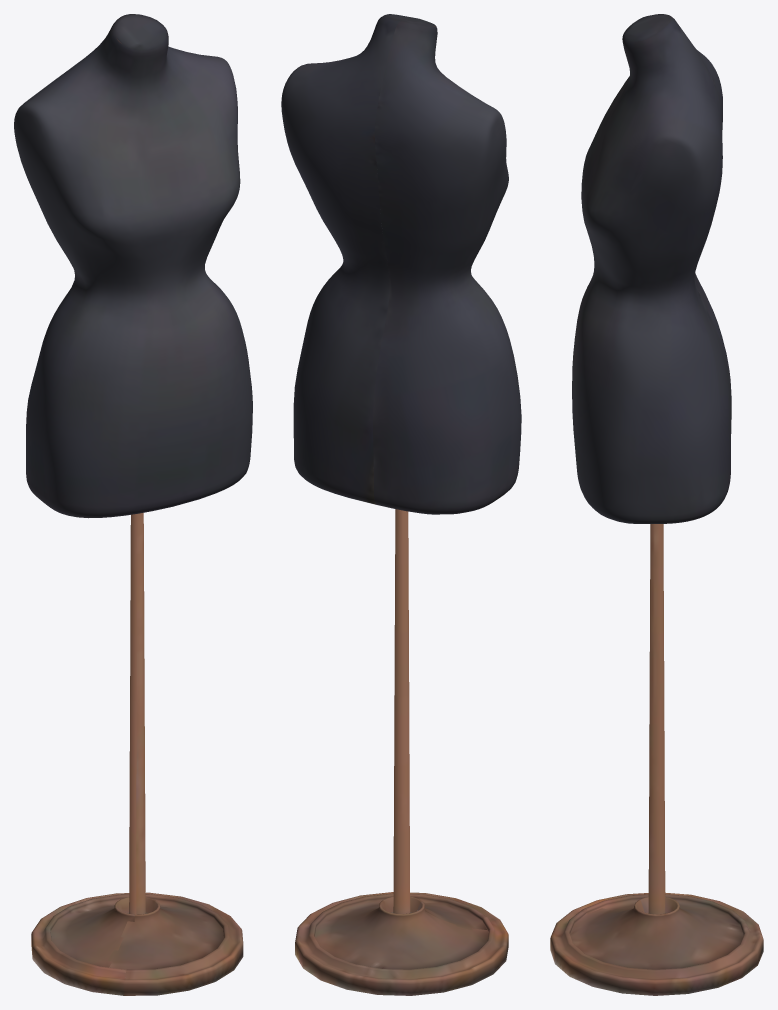
The model's file is ropa_mannequin_1900s_m_size.glb.
The picture shows the model from 3 angles, left to right: view 1: azimuth 30°, elevation 25°; view 2: azimuth 150°, elevation 25°; view 3: azimuth 270°, elevation 25°; orthographic projection.
Parts seen in each view (by area): view 1: Avatar_Man2_0; view 2: Avatar_Man2_0; view 3: Avatar_Man2_0.
Boxes of the visible parts, x1,y1,x2,y2 form: Avatar_Man2_0: (14,14,252,995); Avatar_Man2_0: (281,14,521,995); Avatar_Man2_0: (550,14,763,995).
Size of the model in its own units: 0.3688 by 1.6 by 0.3323.
1 material, 1 textured.
